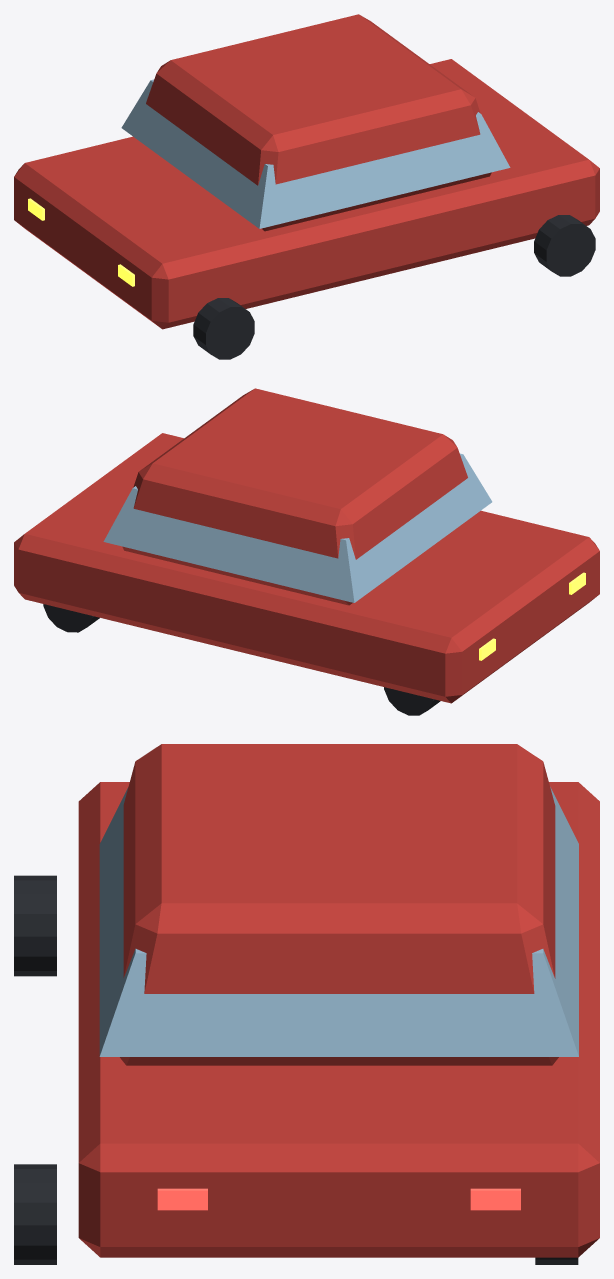
Rendered from car_long_red.glb.
The picture shows the model from 3 angles, top to bottom: view 1: azimuth 30°, elevation 25°; view 2: azimuth 150°, elevation 25°; view 3: azimuth 270°, elevation 25°; orthographic projection. The views are drawn at different scales.
Parts seen in each view (by area): view 1: car_long_red_mesh; view 2: car_long_red_mesh; view 3: car_long_red_mesh.
Boxes of the visible parts, box(x1,y1,x2,y2) form: car_long_red_mesh: box(14, 14, 599, 359); car_long_red_mesh: box(14, 388, 599, 715); car_long_red_mesh: box(14, 744, 599, 1264).
Bounding box in the file's own units: 2.53 × 0.92 × 1.63.
